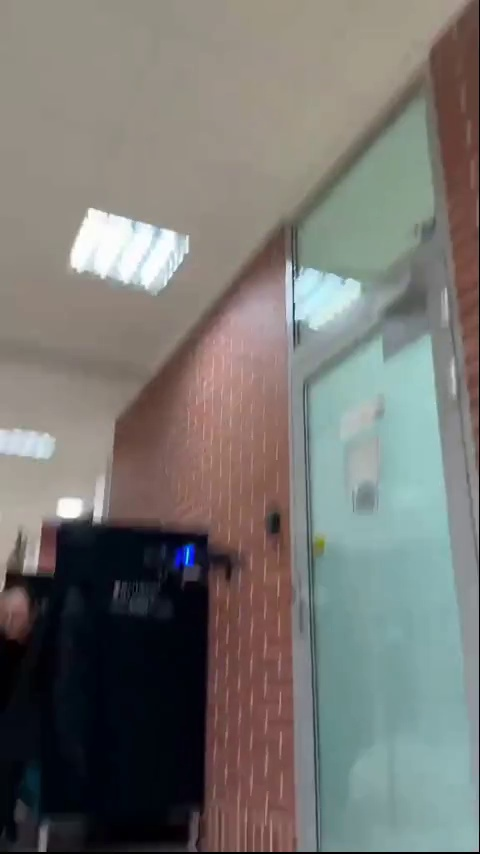drone: (164, 551, 243, 590)
